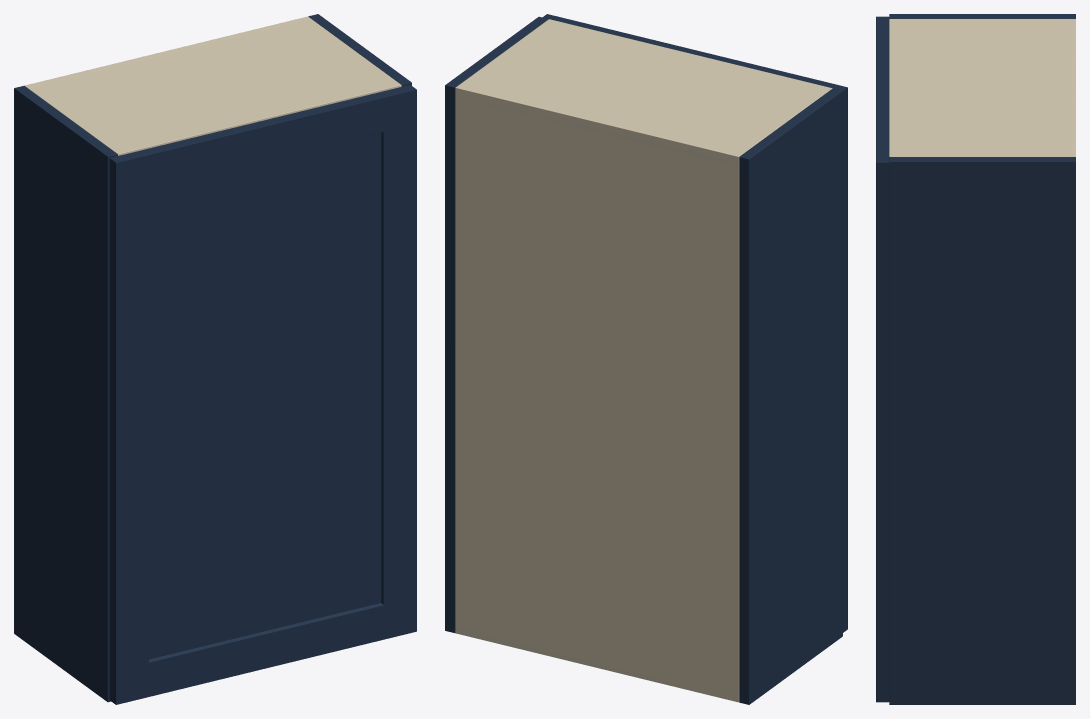
The model's file is oppein-ply-bss-w2136.glb.
The picture shows the model from 3 angles, left to right: view 1: azimuth 30°, elevation 25°; view 2: azimuth 150°, elevation 25°; view 3: azimuth 270°, elevation 25°; orthographic projection.
Visible parts, largest first — view 1: Door, Cabinet side, Cabinet top, Cabinet back, Cabinet side.001; view 2: Cabinet back, Cabinet side, Cabinet top, Cabinet side.001, Door, Cabinet bottom; view 3: Cabinet side.001, Cabinet top, Door, Cabinet back, Cabinet side.
Part boxes in pixels (x1,y1,x2,y2): Door: (109,85,416,704); Cabinet side: (14,86,117,702); Cabinet top: (24,19,401,155); Cabinet back: (25,16,310,87); Cabinet side.001: (308,14,411,86); Cabinet back: (455,85,741,702); Cabinet side: (739,88,842,704); Cabinet top: (455,19,832,166); Cabinet side.001: (445,16,548,632); Door: (542,14,847,632); Cabinet bottom: (455,623,739,702); Cabinet side.001: (889,157,1075,704); Cabinet top: (889,19,1075,156); Door: (876,16,889,702); Cabinet back: (1068,19,1075,156); Cabinet side: (889,14,1075,18).
Size of the model in its own units: 0.5334 by 0.9144 by 0.3048.
